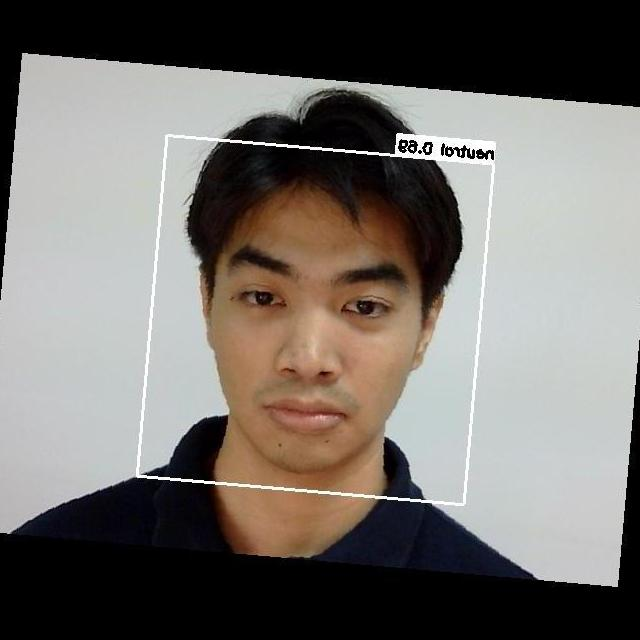Fear: (190, 219, 429, 452)
